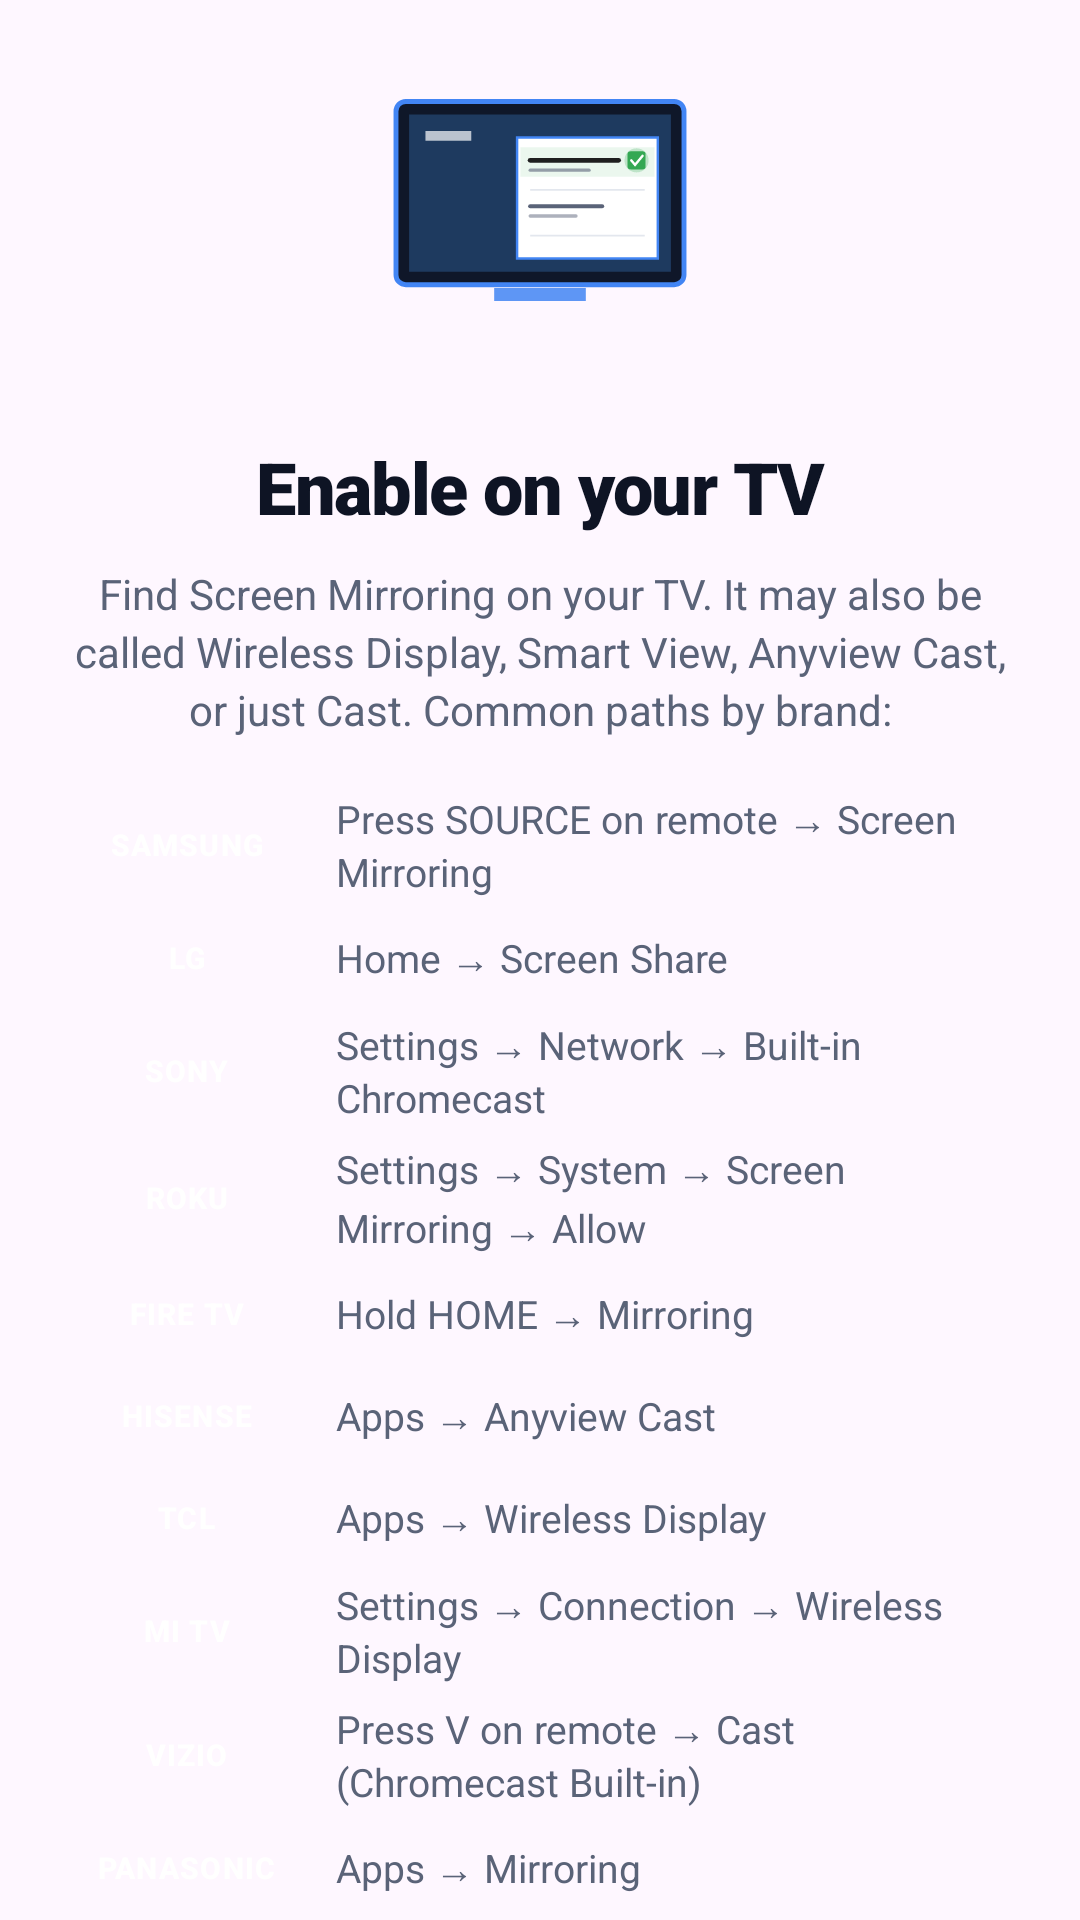

Locate icon controls on the screen. Image size 1080px x 1920px, boxes as BBox(x1, y1, x2, y2).
avd walk tv setup: BBox(393, 99, 687, 301)
